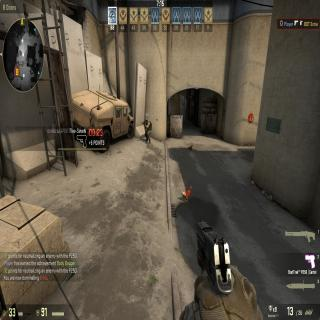CT-Body: (143, 117, 152, 144)
CT-Head: (145, 118, 148, 124)
